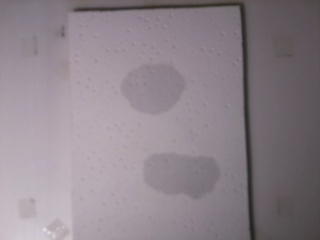Water_detected: (152, 150, 211, 189), (128, 70, 184, 110)
